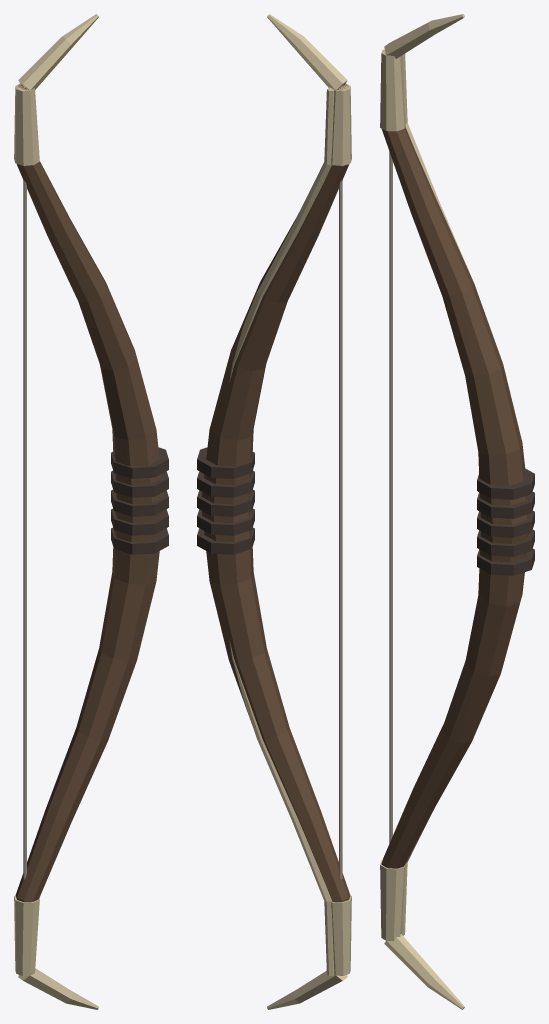
The model's file is AEW_Bow_MoonAntler.fbx.
The picture shows the model from 3 angles, left to right: view 1: azimuth 30°, elevation 25°; view 2: azimuth 150°, elevation 25°; view 3: azimuth 330°, elevation 25°; orthographic projection.
Visible parts, largest first — view 1: AEW_Bow_MoonAntler; view 2: AEW_Bow_MoonAntler; view 3: AEW_Bow_MoonAntler.
Boxes of the visible parts, x1,y1,x2,y2 form: AEW_Bow_MoonAntler: (14, 14, 168, 1009); AEW_Bow_MoonAntler: (197, 14, 351, 1009); AEW_Bow_MoonAntler: (380, 14, 534, 1009).
Size of the model in its own units: 0.2492 by 1.57 by 0.086.
